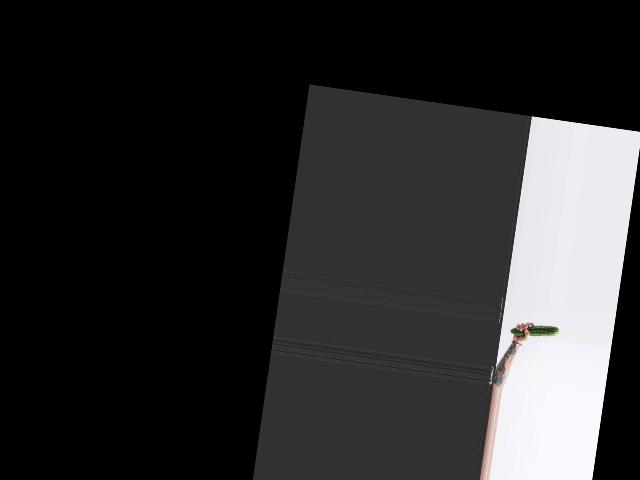cucumber: (510, 320, 560, 340)
